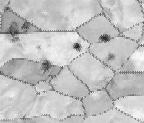good_void: (7, 22, 19, 44), (98, 32, 112, 44), (39, 61, 51, 73), (20, 20, 31, 31), (107, 52, 116, 61), (73, 42, 81, 50), (36, 44, 42, 50)
